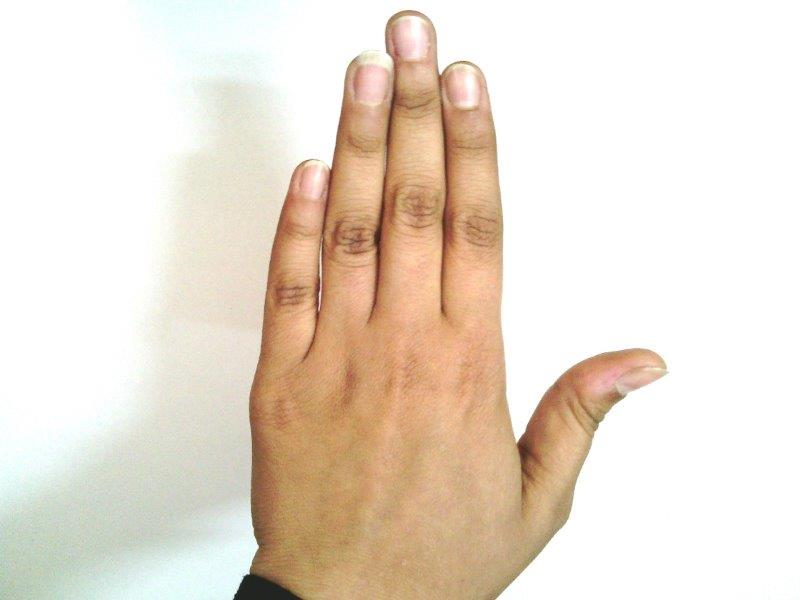hand: (248, 10, 665, 579)
